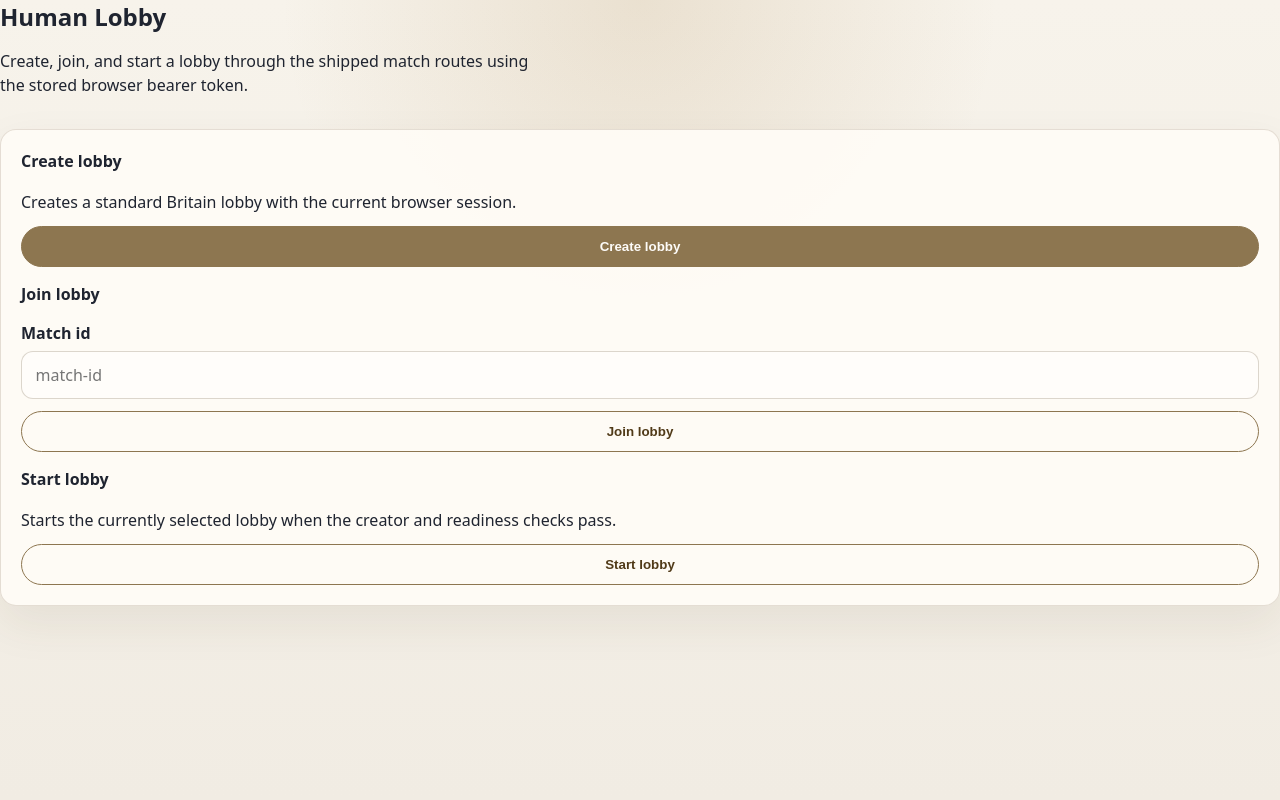
it: HumanLobbyPage › creates a lobby and renders the returned confirmed state
Click the button "Create lobby": (640, 246) top-left (21, 226), bottom-right (1259, 267)
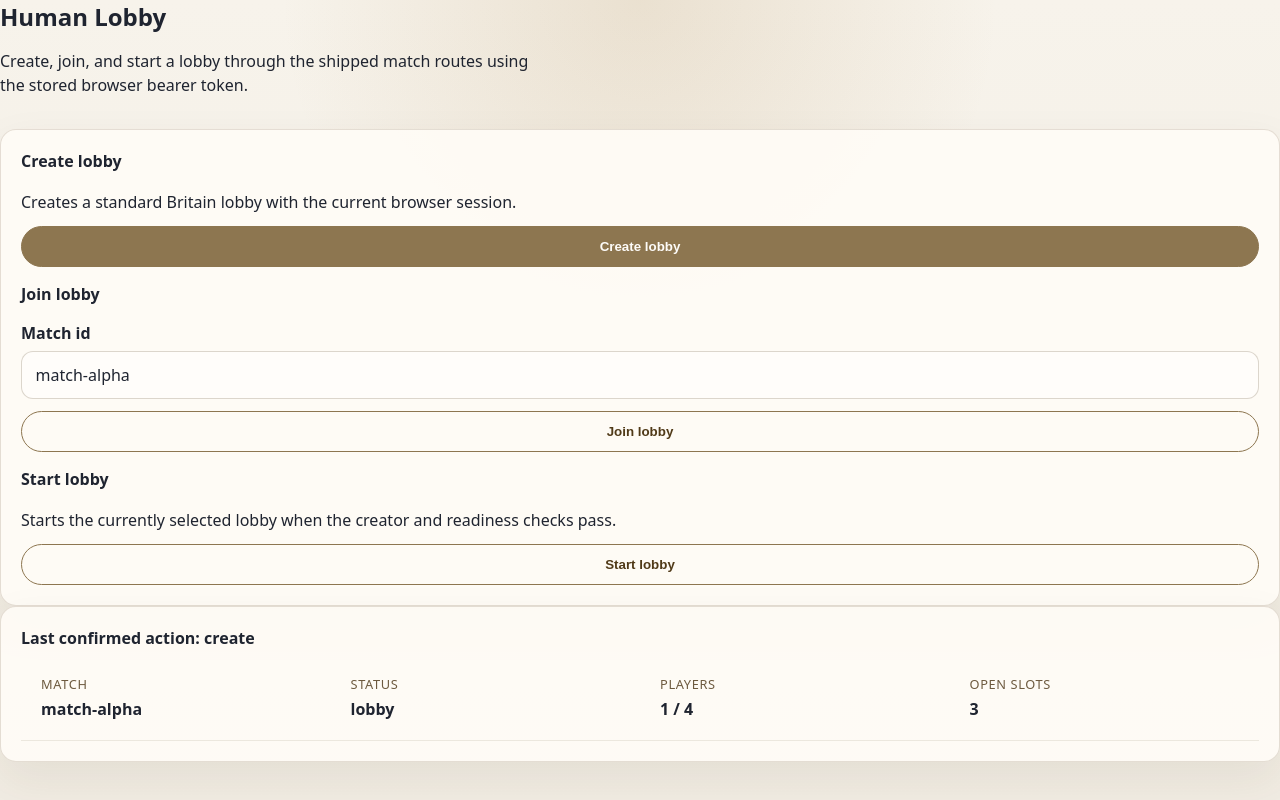
expect the text "Last confirmed action: create" is shown: met, box top-left (21, 627), bottom-right (255, 649)
expect the text "match-alpha" is shown: met, box top-left (41, 698), bottom-right (142, 720)
